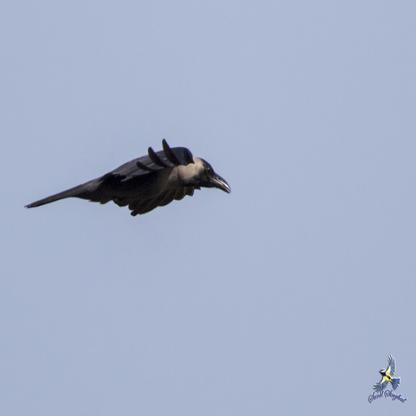Burung: (25, 139, 230, 215)
